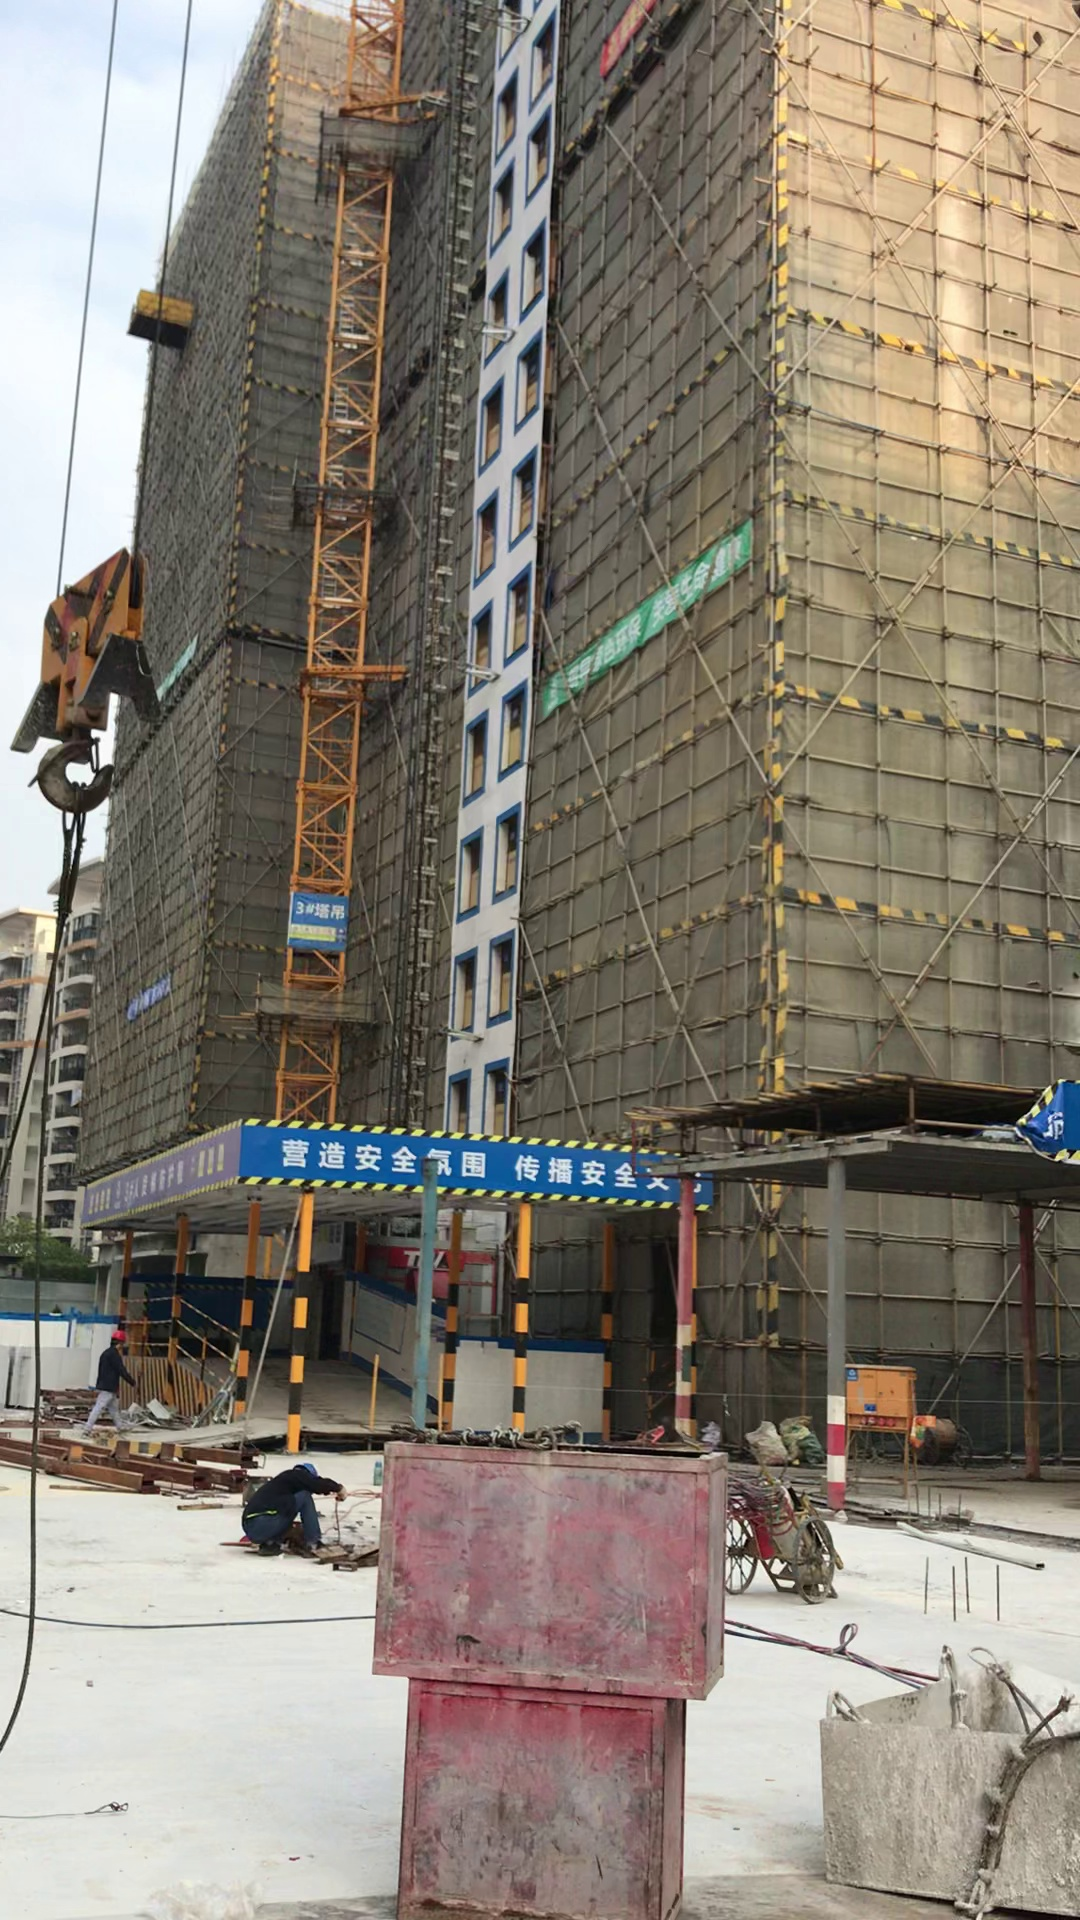brick: (6, 1348, 79, 1410)
ebox: (842, 1359, 928, 1453)
handcart: (725, 1474, 848, 1600)
helmet: (107, 1328, 129, 1346)
hook: (34, 548, 151, 841)
hopper: (820, 1651, 1080, 1912)
person: (240, 1449, 353, 1559), (87, 1326, 138, 1431)
slogan: (542, 521, 763, 727), (267, 1138, 723, 1178), (276, 888, 349, 953), (105, 972, 180, 1021)
